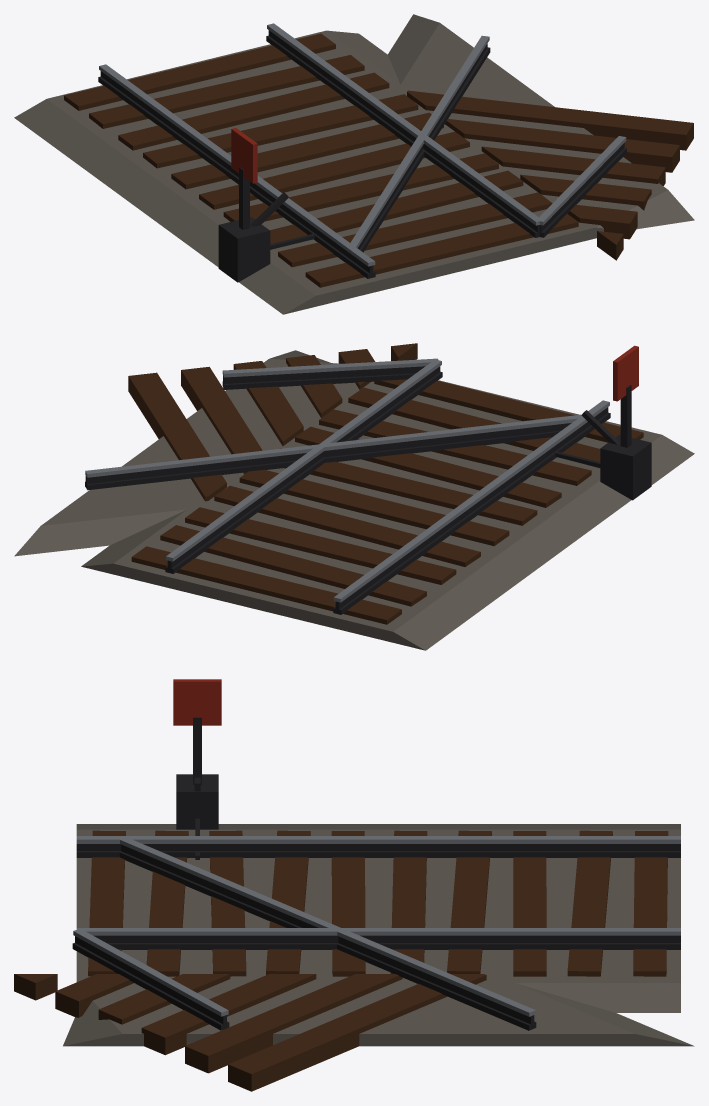
File: SM_Rail_Switch.obj
3 renders of one model, top to bottom at view 1: azimuth 30°, elevation 25°; view 2: azimuth 150°, elevation 25°; view 3: azimuth 270°, elevation 25°, orthographic. The views are drawn at different scales.
Parts seen in each view (by area): view 1: SM_Rail_Switch; view 2: SM_Rail_Switch; view 3: SM_Rail_Switch.
Boxes of the visible parts, x1,y1,x2,y2 form: SM_Rail_Switch: (14,14,694,314); SM_Rail_Switch: (14,343,694,650); SM_Rail_Switch: (14,679,694,1091).
Bounding box in the file's own units: 4.2 × 1.11 × 4.51.
